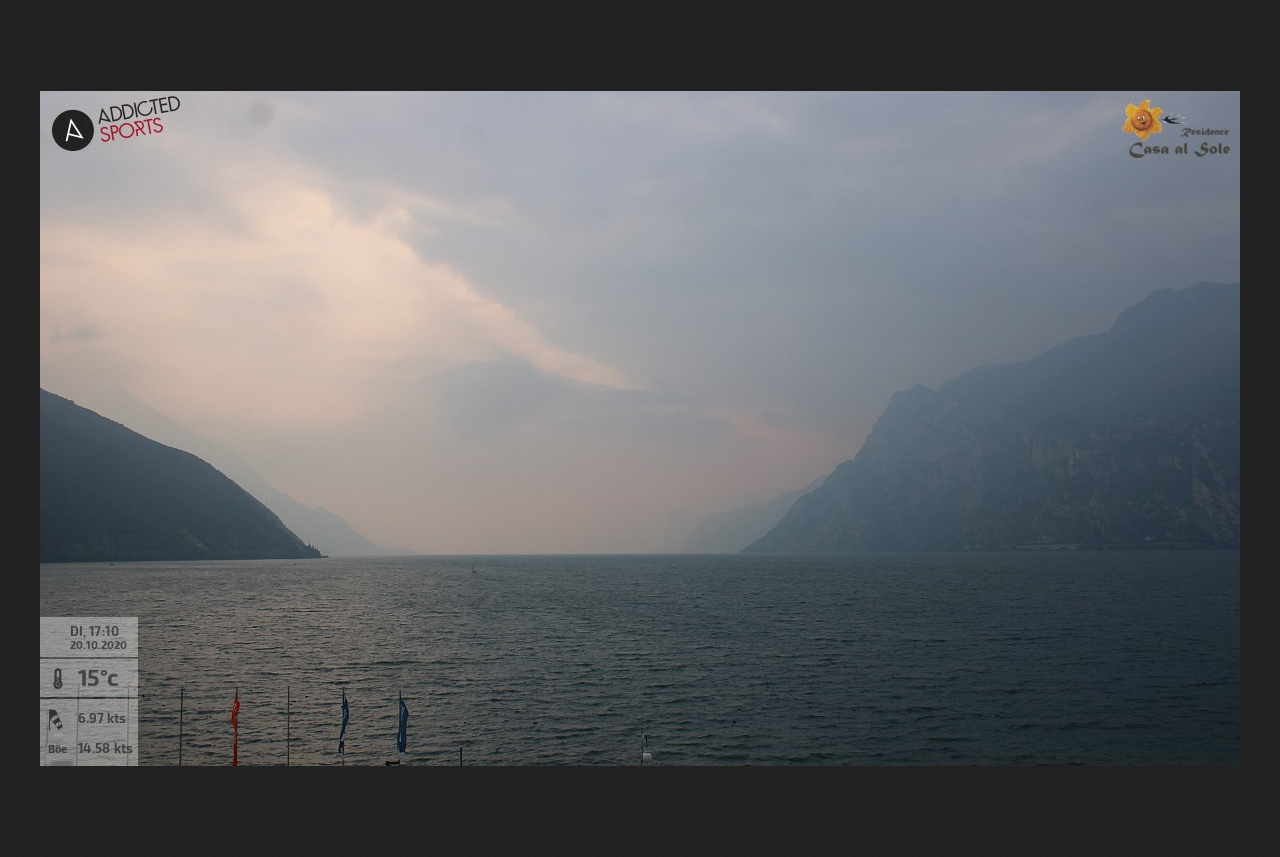no: (388, 684, 415, 755), (225, 691, 247, 768), (333, 673, 352, 757)
